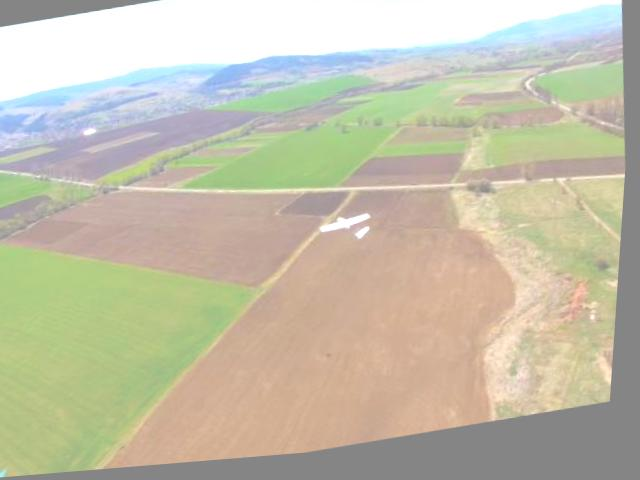uav: (316, 205, 380, 262)
